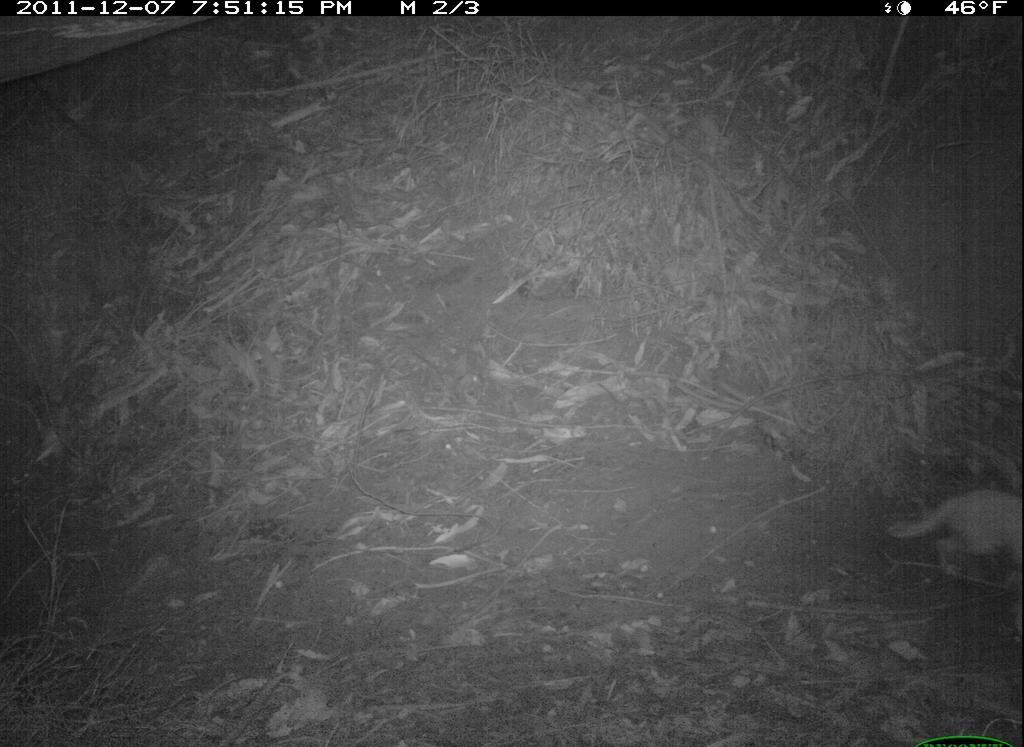dog: (886, 482, 1021, 589)
